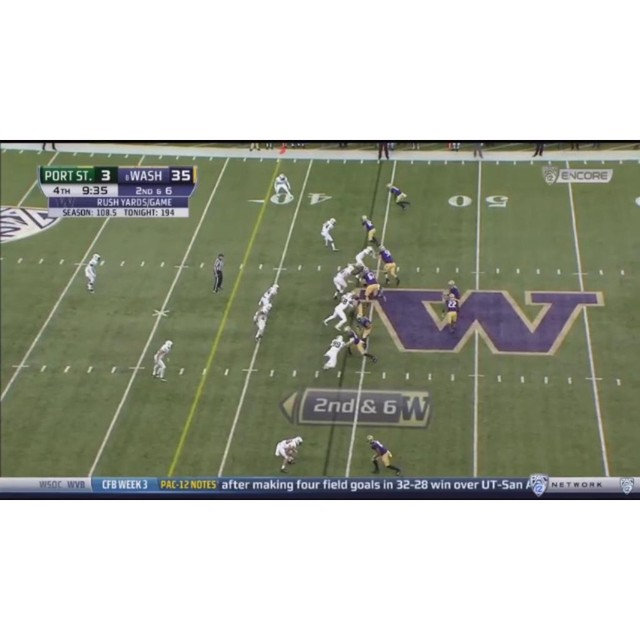american-football-player: (367, 434, 402, 475), (321, 291, 357, 330), (344, 327, 379, 363), (321, 334, 347, 377), (275, 435, 304, 472), (440, 285, 461, 334), (377, 245, 401, 287), (152, 340, 173, 381), (361, 267, 384, 304), (332, 264, 356, 299), (252, 302, 272, 342), (386, 183, 411, 212), (85, 253, 102, 293), (321, 218, 340, 252), (258, 283, 280, 310), (356, 314, 374, 345), (361, 215, 379, 246), (354, 245, 375, 271)
referee: (212, 252, 225, 293)
